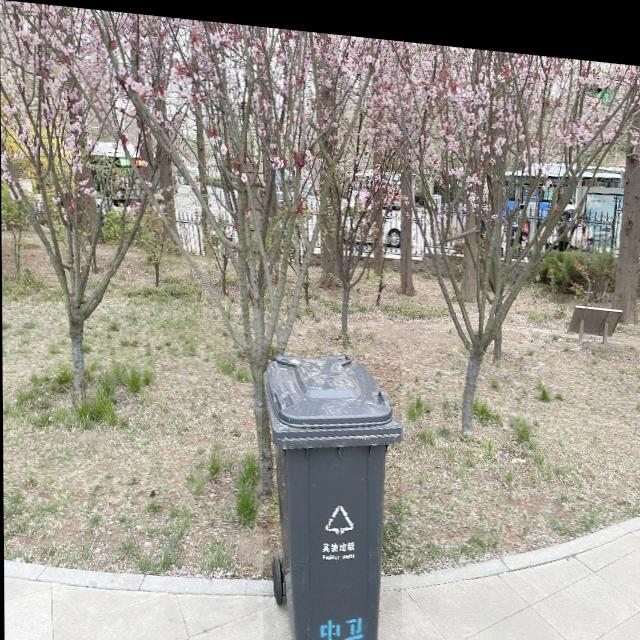garbage_bin: (261, 340, 402, 640)
